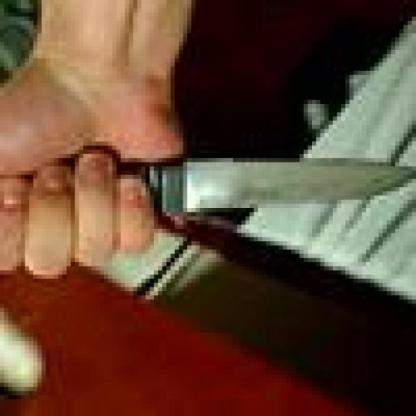Knife: (116, 137, 416, 237)
